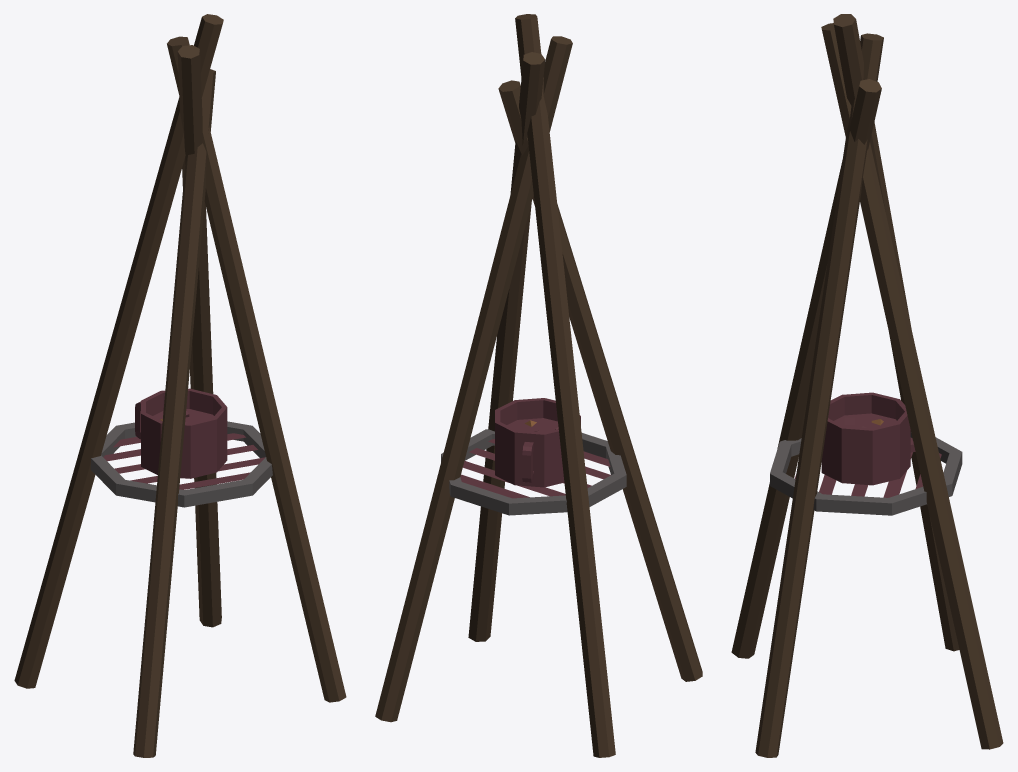
File: campfire-cooker.fbx
3 renders of one model, left to right at view 1: azimuth 30°, elevation 25°; view 2: azimuth 150°, elevation 25°; view 3: azimuth 270°, elevation 25°, orthographic. The views are drawn at different scales.
Visible parts, largest first — view 1: campfire-cooker; view 2: campfire-cooker; view 3: campfire-cooker.
Part boxes in pixels (x1,y1,x2,y2): campfire-cooker: (14, 14, 346, 757); campfire-cooker: (375, 14, 702, 757); campfire-cooker: (731, 14, 1003, 757).
Size of the model in its own units: 0.8958 by 2.43 by 0.8614.
